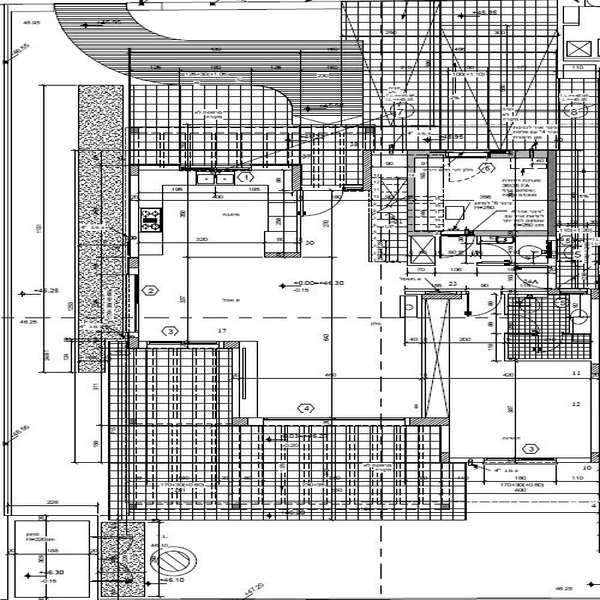door: (297, 182, 349, 227), (451, 284, 509, 319), (437, 227, 473, 262)
wall: (405, 145, 426, 235), (468, 223, 556, 241), (543, 145, 559, 242), (487, 149, 559, 162), (419, 285, 463, 306), (408, 416, 452, 430), (290, 164, 304, 200)
